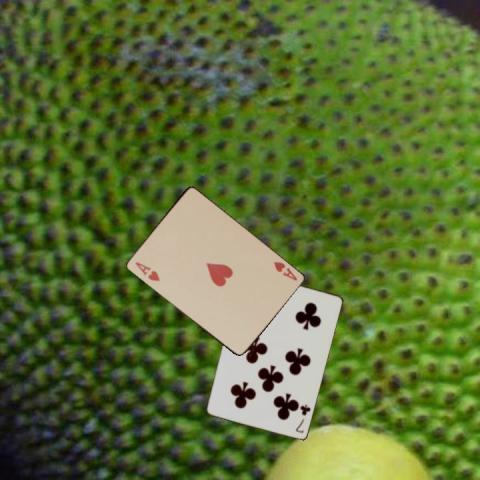7c: (293, 401, 312, 434)
Ah: (132, 258, 161, 283), (270, 258, 298, 283)
